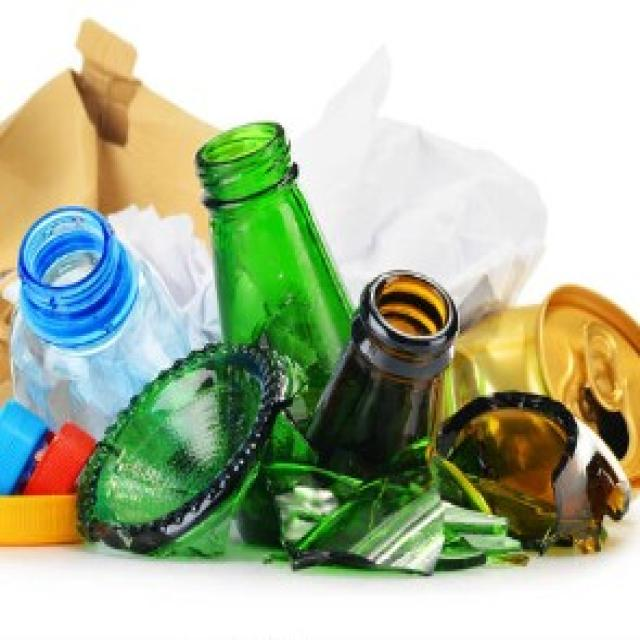electronic: (188, 113, 373, 456), (63, 342, 338, 564), (299, 266, 460, 504)
